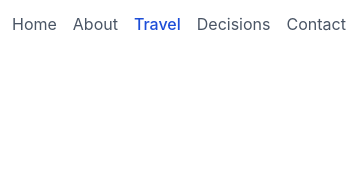
Test: NavLinks › adds Add a Pin to the Travel flyout when signed in, alongside Map and List
Step 1. Click the button "Travel" → [157, 24], box [134,12,181,36]
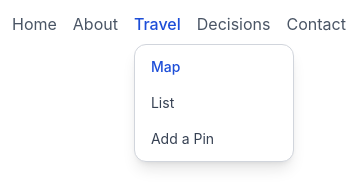
Check: the menu item "Map" is shown, box [151,58,180,75]
Check: the menu item "List" is shown, box [151,94,174,111]
Check: the menu item "Add a Pin" is shown, box [151,130,214,147]
